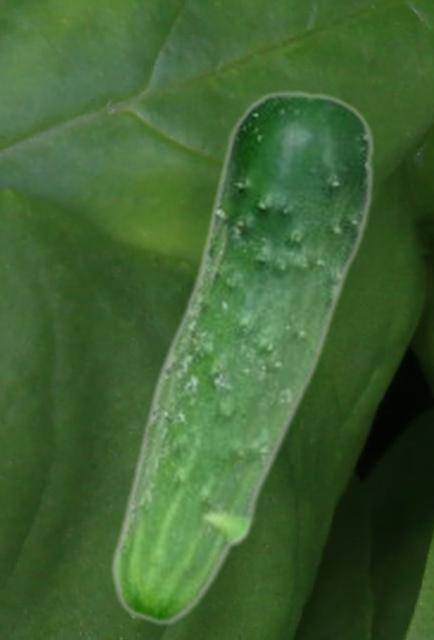cucumber: (108, 90, 375, 625)
